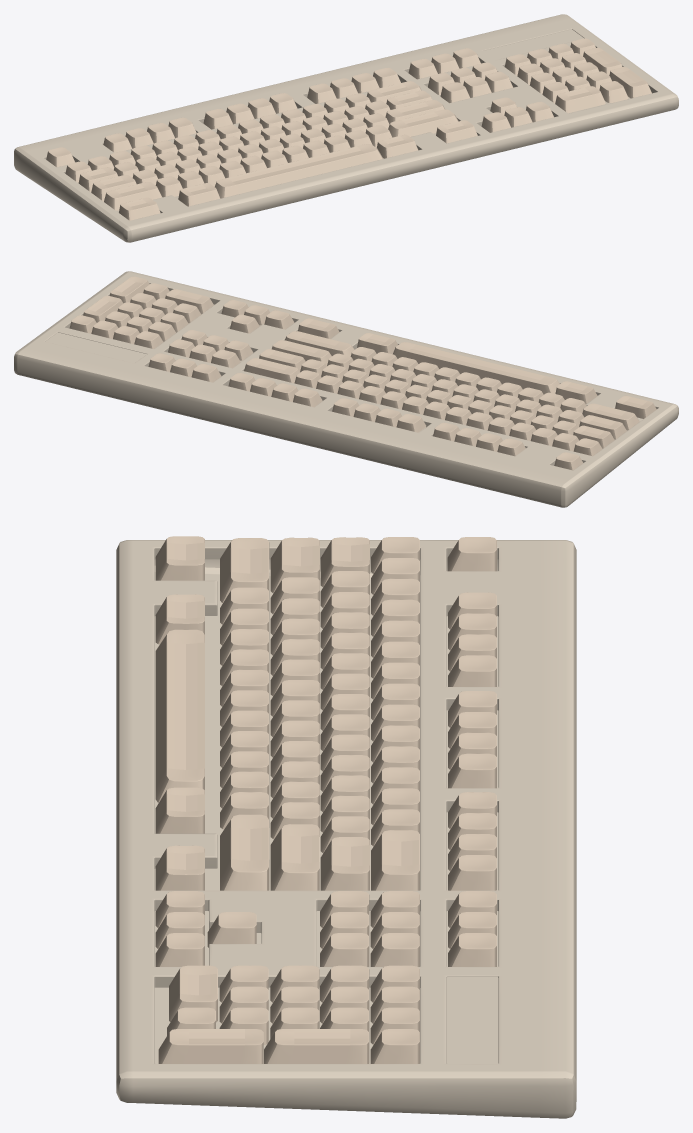
The model's file is 3D_pc_keyboard.fbx.
3 views of the same model, one above another, from view 1: azimuth 30°, elevation 25°; view 2: azimuth 150°, elevation 25°; view 3: azimuth 270°, elevation 25° (orthographic). The views are drawn at different scales.
Visible parts, largest first — view 1: keyboard_main, keyboard_key_105, keyboard_key_97, keyboard_plate, keyboard_key_93, keyboard_key_102, keyboard_key_92, keyboard_key_96, keyboard_key_100, keyboard_key_99, keyboard_key_98, keyboard_key_101 (+32 smaller); view 2: keyboard_main, keyboard_key_105, keyboard_plate, keyboard_key_97, keyboard_key_95, keyboard_key_102, keyboard_key_96, keyboard_key_93, keyboard_key_100, keyboard_key_101, keyboard_key_91, keyboard_key_92 (+15 smaller); view 3: keyboard_main, keyboard_key_105, keyboard_plate, keyboard_key_97, keyboard_key_91, keyboard_key_92, keyboard_key_96, keyboard_key_95, keyboard_key_94, keyboard_key_102, keyboard_key_99, keyboard_key_98 (+95 smaller).
Part boxes in pixels (x1,y1,x2,y2): keyboard_main: [14, 14, 678, 242]; keyboard_key_105: [215, 144, 383, 198]; keyboard_key_97: [388, 109, 458, 137]; keyboard_plate: [483, 29, 584, 60]; keyboard_key_93: [555, 86, 605, 113]; keyboard_key_102: [104, 182, 162, 210]; keyboard_key_92: [609, 67, 651, 98]; keyboard_key_96: [385, 100, 444, 124]; keyboard_key_100: [178, 183, 220, 206]; keyboard_key_99: [377, 134, 417, 158]; keyboard_key_98: [436, 120, 477, 143]; keyboard_key_101: [119, 197, 160, 220]; keyboard_main: [14, 271, 678, 507]; keyboard_key_105: [393, 342, 559, 394]; keyboard_plate: [45, 332, 146, 363]; keyboard_key_97: [285, 331, 354, 356]; keyboard_key_95: [244, 358, 299, 383]; keyboard_key_102: [582, 403, 639, 430]; keyboard_key_96: [271, 340, 331, 365]; keyboard_key_93: [165, 289, 213, 314]; keyboard_key_100: [555, 381, 597, 403]; keyboard_key_101: [615, 395, 656, 418]; keyboard_key_91: [83, 295, 123, 322]; keyboard_key_92: [109, 276, 149, 303]; keyboard_main: [116, 540, 576, 1118]; keyboard_key_105: [155, 629, 204, 802]; keyboard_plate: [446, 977, 498, 1063]; keyboard_key_97: [220, 814, 269, 890]; keyboard_key_91: [264, 1029, 369, 1063]; keyboard_key_92: [158, 1029, 263, 1063]; keyboard_key_96: [270, 824, 319, 890]; keyboard_key_95: [371, 830, 419, 890]; keyboard_key_94: [320, 837, 369, 890]; keyboard_key_102: [220, 538, 269, 603]; keyboard_key_99: [155, 787, 204, 833]; keyboard_key_98: [155, 845, 204, 890].
Size of the model in its own units: 136 by 7 by 48.83.
